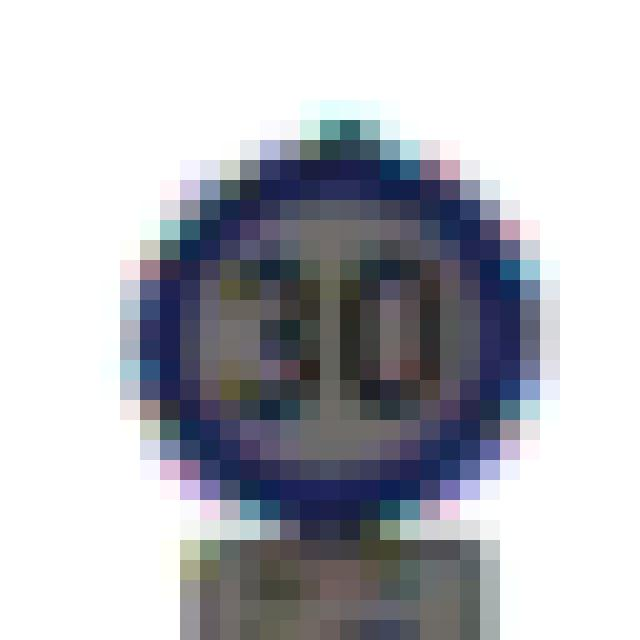SPEED LIMIT 30: (140, 136, 544, 546)
